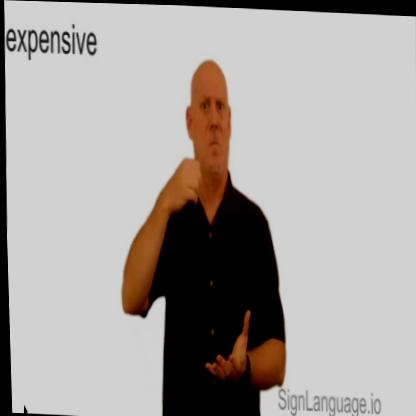Expensive: (111, 43, 294, 416)
